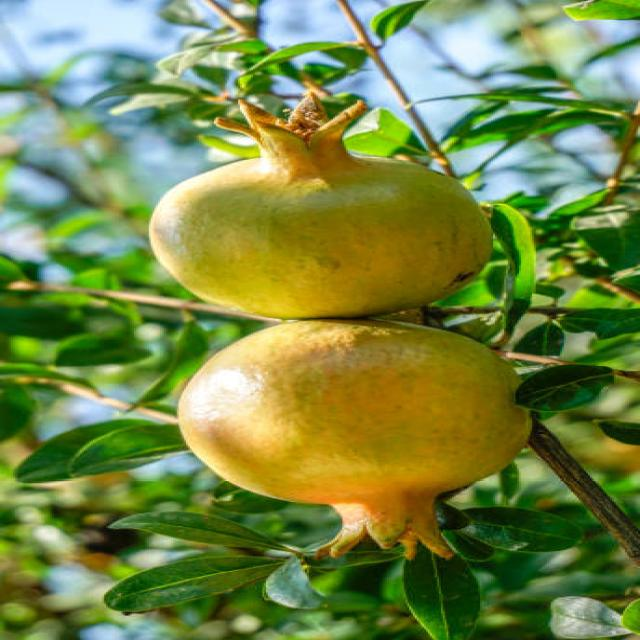Unripe: (177, 311, 527, 560), (154, 90, 497, 322)
